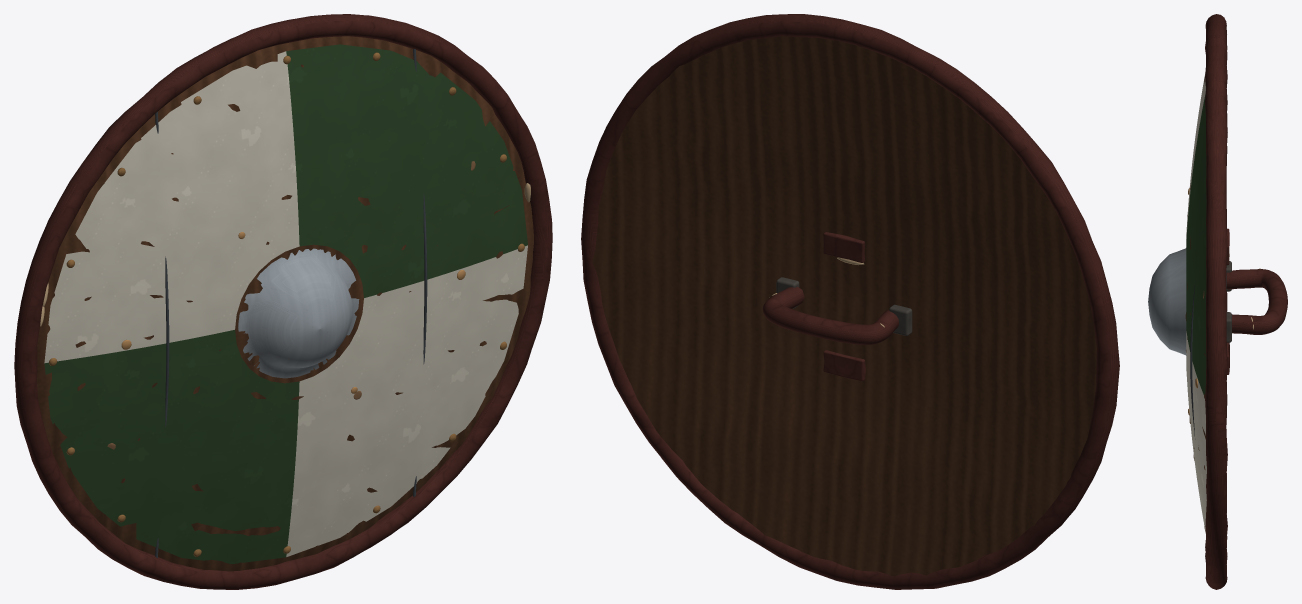
File: round-shield.glb
The picture shows the model from 3 angles, left to right: view 1: azimuth 30°, elevation 25°; view 2: azimuth 150°, elevation 25°; view 3: azimuth 270°, elevation 25°; orthographic projection. The views are drawn at different scales.
Visible parts, largest first — view 1: enamel / heraldic enamel, ceramic / ceramic composite panel, leather / oiled leather wrap, wood / oiled hardwood, steel / forged blade steel, darksteel / oil-blackened fittings, bronze / cast bronze with patina; view 2: wood / oiled hardwood, leather / oiled leather wrap, iron / hammer-scaled wrought iron; view 3: leather / oiled leather wrap, ceramic / ceramic composite panel, steel / forged blade steel, enamel / heraldic enamel, darksteel / oil-blackened fittings, iron / hammer-scaled wrought iron.
Boxes of the visible parts, bbox=[...] form: enamel / heraldic enamel: bbox=[44, 51, 527, 556]; ceramic / ceramic composite panel: bbox=[44, 44, 527, 563]; leather / oiled leather wrap: bbox=[14, 14, 552, 589]; wood / oiled hardwood: bbox=[37, 36, 533, 571]; steel / forged blade steel: bbox=[238, 248, 359, 378]; darksteel / oil-blackened fittings: bbox=[155, 49, 427, 557]; bronze / cast bronze with patina: bbox=[49, 52, 524, 556]; wood / oiled hardwood: bbox=[592, 36, 1096, 576]; leather / oiled leather wrap: bbox=[581, 14, 1119, 589]; iron / hammer-scaled wrought iron: bbox=[776, 277, 912, 335]; leather / oiled leather wrap: bbox=[1205, 14, 1287, 589]; ceramic / ceramic composite panel: bbox=[1186, 94, 1206, 394]; steel / forged blade steel: bbox=[1148, 248, 1186, 355]; enamel / heraldic enamel: bbox=[1186, 74, 1206, 531]; darksteel / oil-blackened fittings: bbox=[1190, 281, 1195, 439]; iron / hammer-scaled wrought iron: bbox=[1226, 261, 1231, 342].
Bounding box in the file's own units: 0.6648 × 0.6638 × 0.1616.
11 materials, 8 textured.
